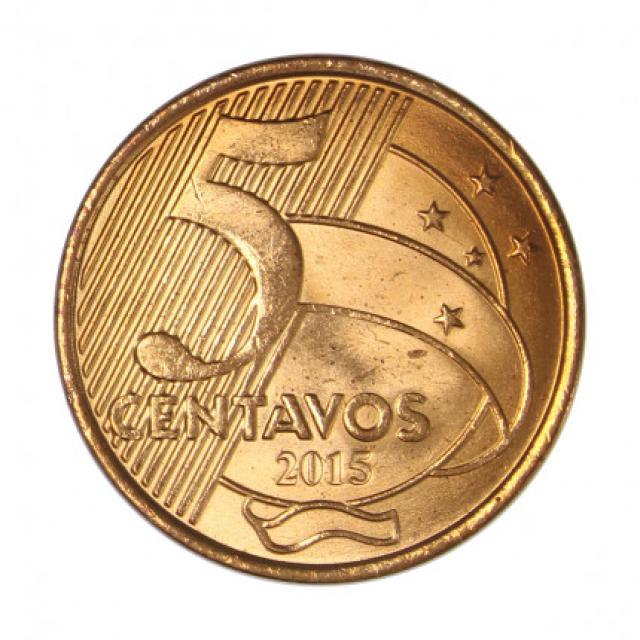5 cent: (56, 54, 580, 580)
